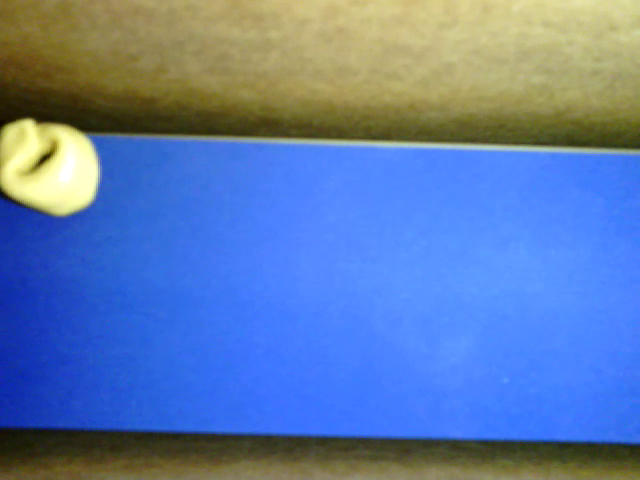tortellini: (1, 119, 101, 217)
